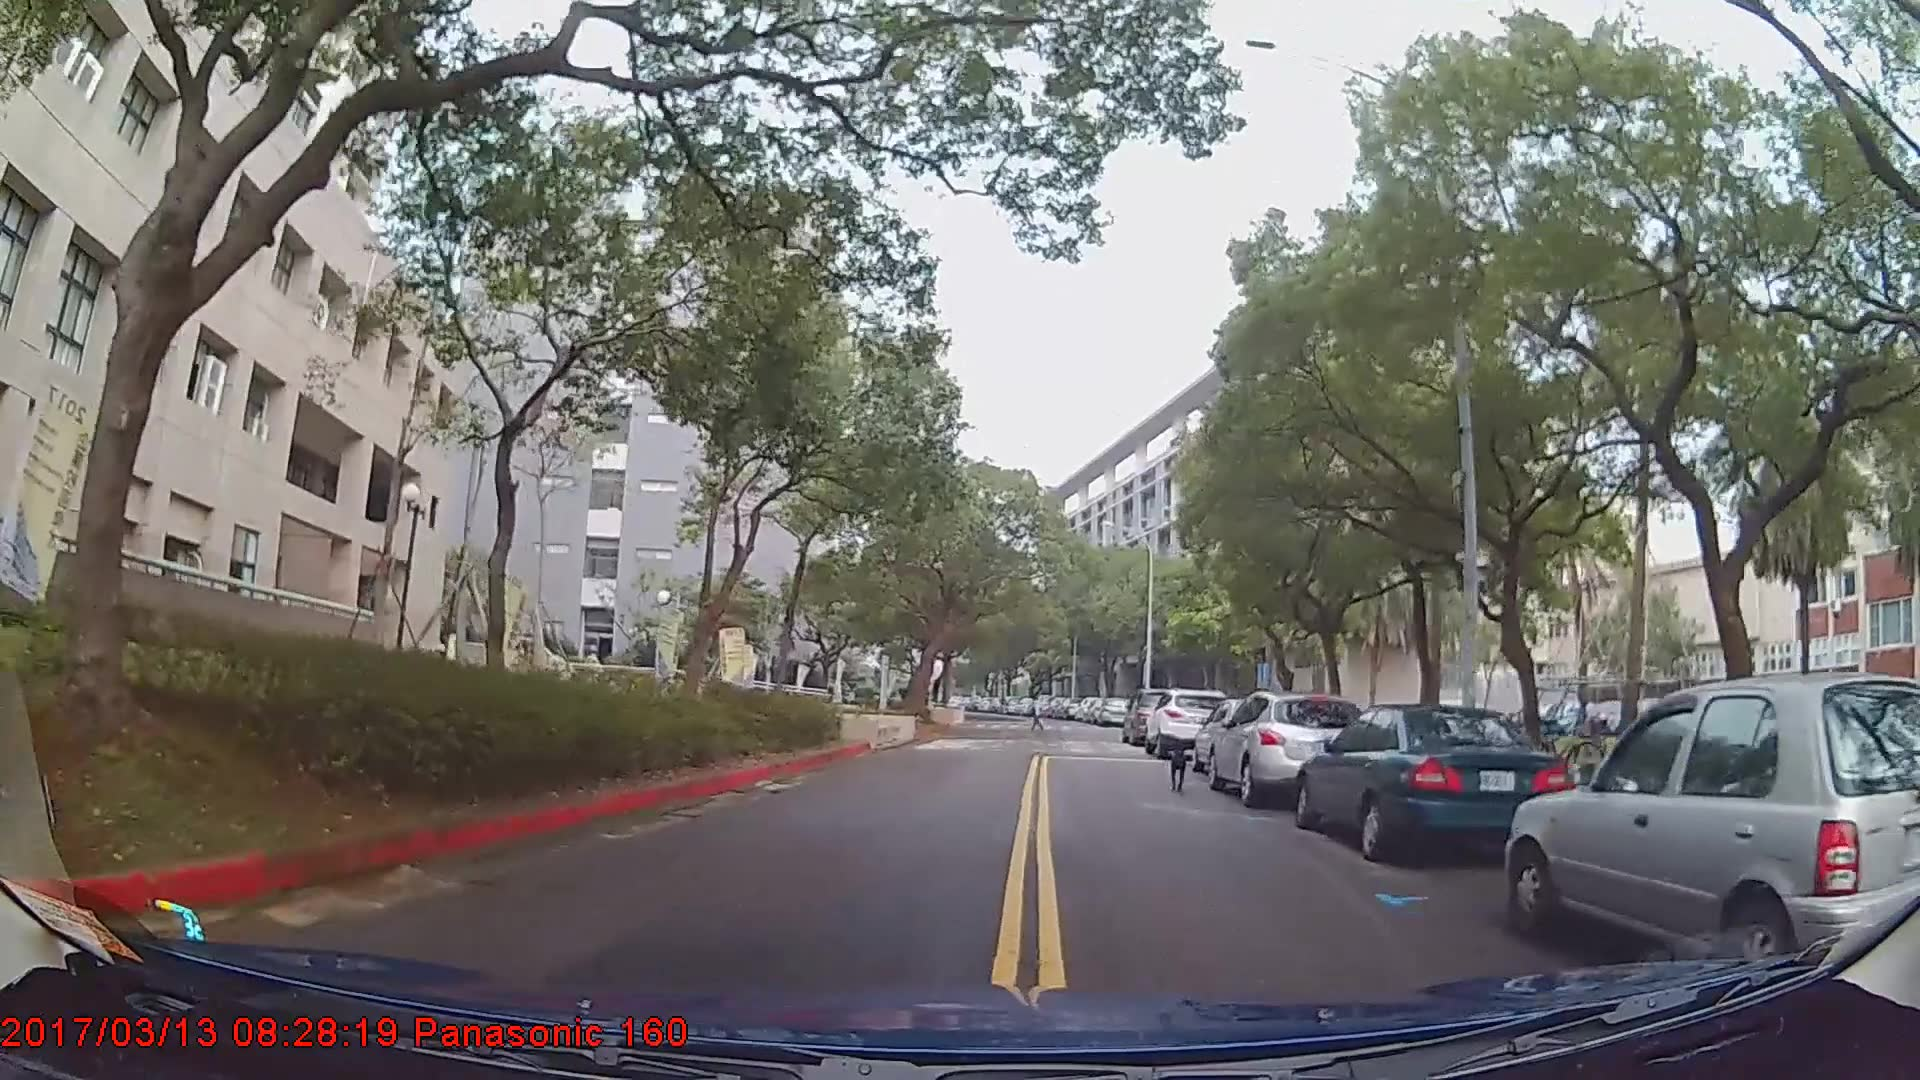pedestrian: (1030, 694, 1050, 734)
vehicle: (1504, 666, 1920, 989), (1294, 705, 1576, 869), (1205, 691, 1370, 813), (1145, 684, 1231, 754), (1095, 693, 1132, 726)
